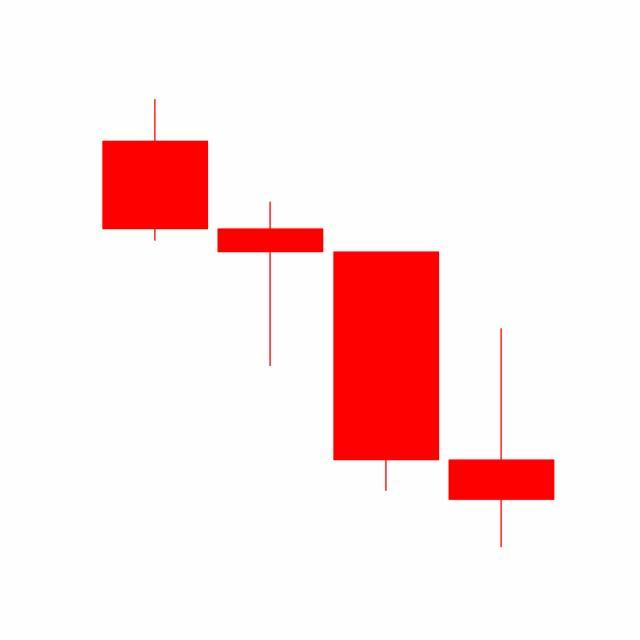Spinning Top: (444, 327, 560, 551)
